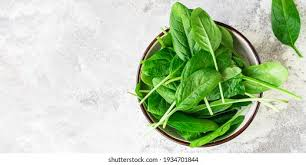spinach: (167, 35, 235, 129)
